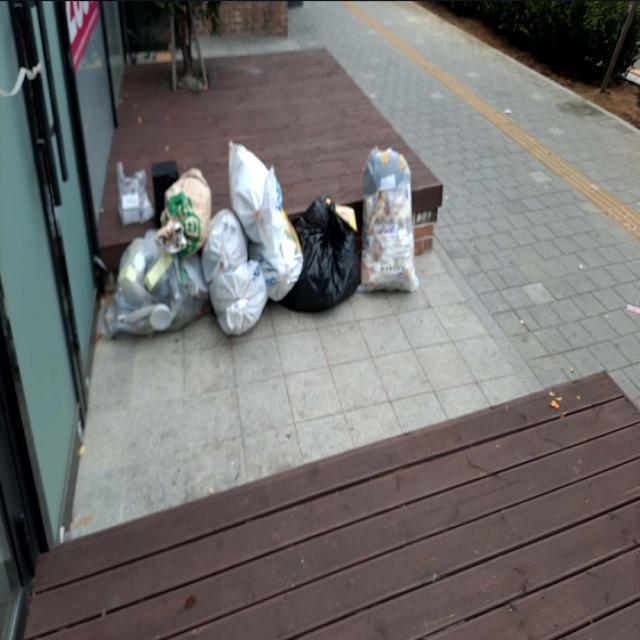Trashbag: (290, 202, 366, 308)
